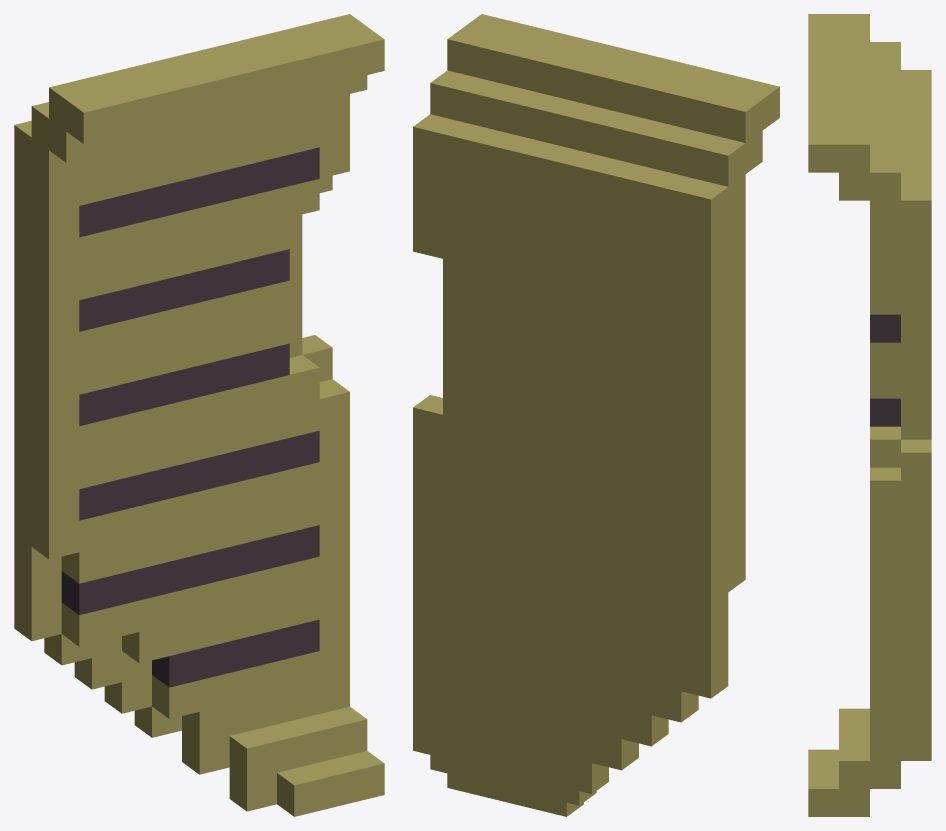
The model's file is pergamino2.obj.
The picture shows the model from 3 angles, left to right: view 1: azimuth 30°, elevation 25°; view 2: azimuth 150°, elevation 25°; view 3: azimuth 270°, elevation 25°; orthographic projection. The views are drawn at different scales.
Size of the model in its own units: 1 by 2.4 by 0.4.
Materials: 1 (1 with a texture image).
